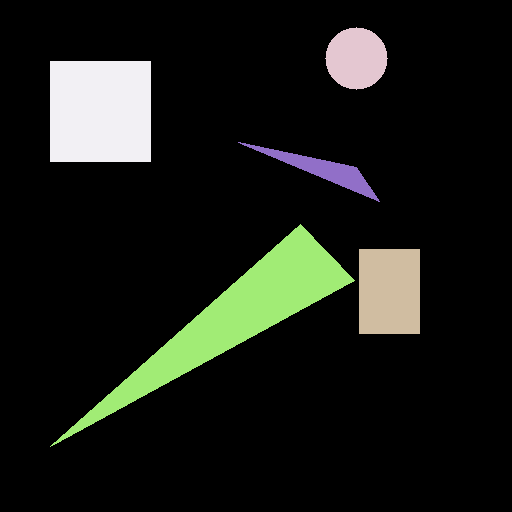circle: (325, 27, 387, 89)
rectangle: (359, 249, 419, 333)
square: (50, 61, 150, 161)
triangle: (50, 224, 354, 446), (238, 142, 379, 201)
